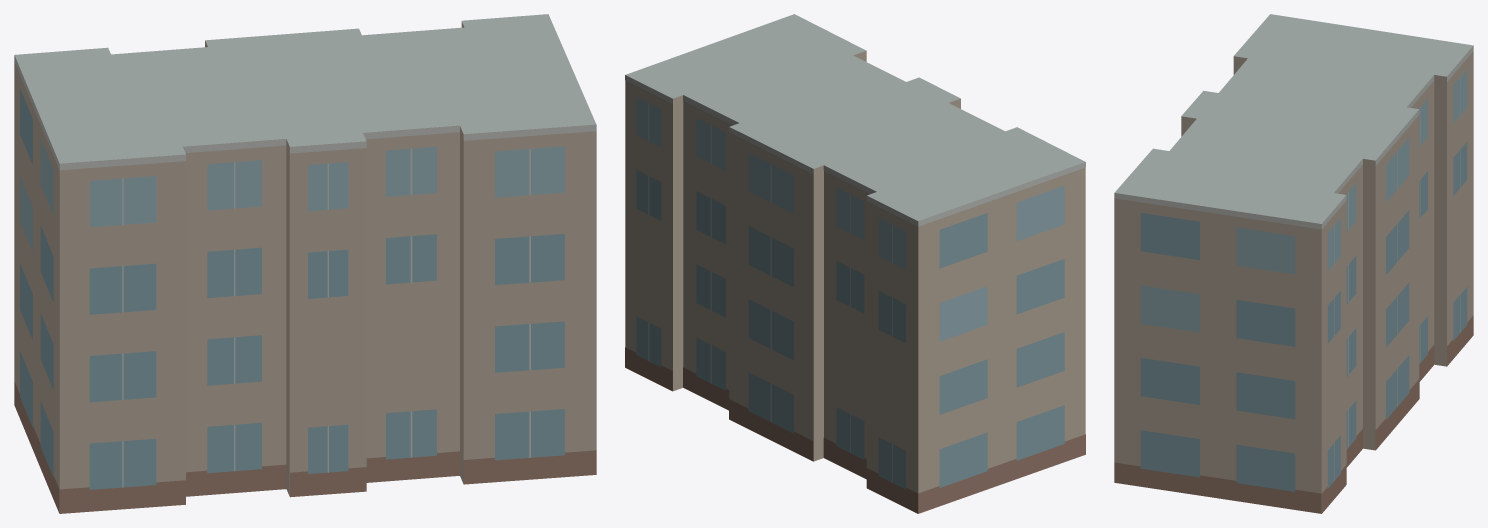
The model's file is survey-upis-32884207.glb.
3 views of the same model, side by side, from view 1: azimuth 30°, elevation 25°; view 2: azimuth 150°, elevation 25°; view 3: azimuth 270°, elevation 25° (orthographic). The views are drawn at different scales.
Visible parts, largest first — view 1: survey-upis-32884207.tmp; view 2: survey-upis-32884207.tmp; view 3: survey-upis-32884207.tmp.
Part boxes in pixels (x1,y1,x2,y2): survey-upis-32884207.tmp: [14, 14, 596, 513]; survey-upis-32884207.tmp: [625, 14, 1085, 513]; survey-upis-32884207.tmp: [1114, 14, 1473, 513].
Bounding box in the file's own units: 20.06 × 12.9 × 14.5.
